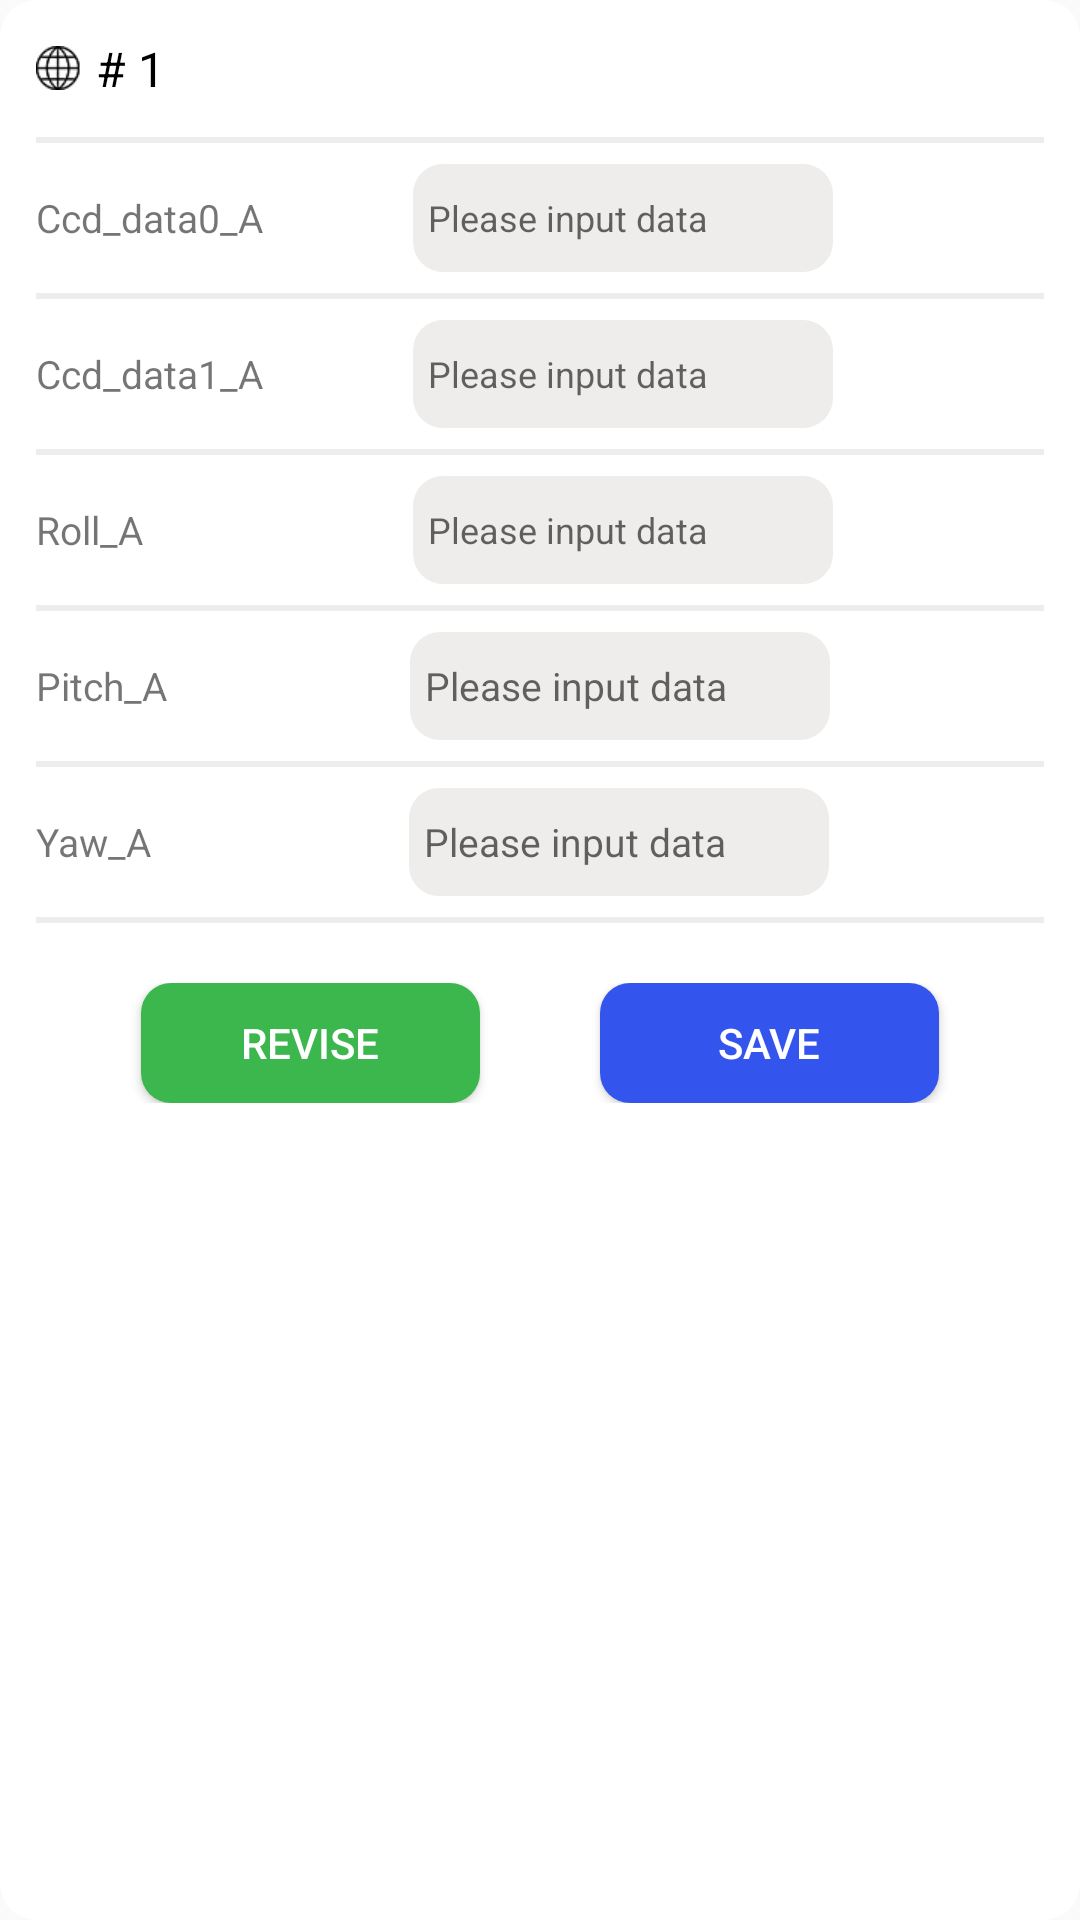

Icon bounding boxes for this 1080 × 1920 phone screenshot, format {"left": x1, "top": y1, "right": x2, "bottom": y2}:
qiu: {"left": 36, "top": 46, "right": 80, "bottom": 90}
